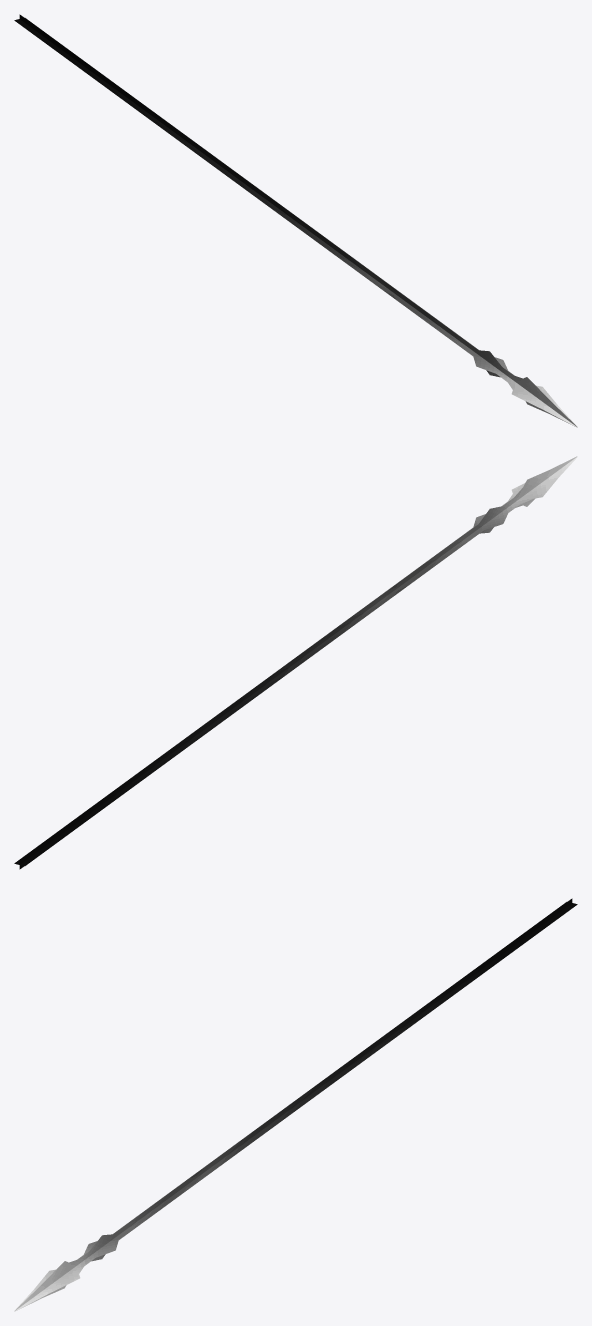
File: proj_ganesa_ult.fbx
3 renders of one model, top to bottom at view 1: azimuth 30°, elevation 25°; view 2: azimuth 150°, elevation 25°; view 3: azimuth 330°, elevation 25°, orthographic.
Parts seen in each view (by area): view 1: mesh_arrow; view 2: mesh_arrow; view 3: mesh_arrow.
Boxes of the visible parts, x1,y1,x2,y2 form: mesh_arrow: (14, 14, 577, 427); mesh_arrow: (14, 456, 577, 869); mesh_arrow: (14, 898, 577, 1311).
Bounding box in the file's own units: 0.0984 × 0.0829 × 3.05.
